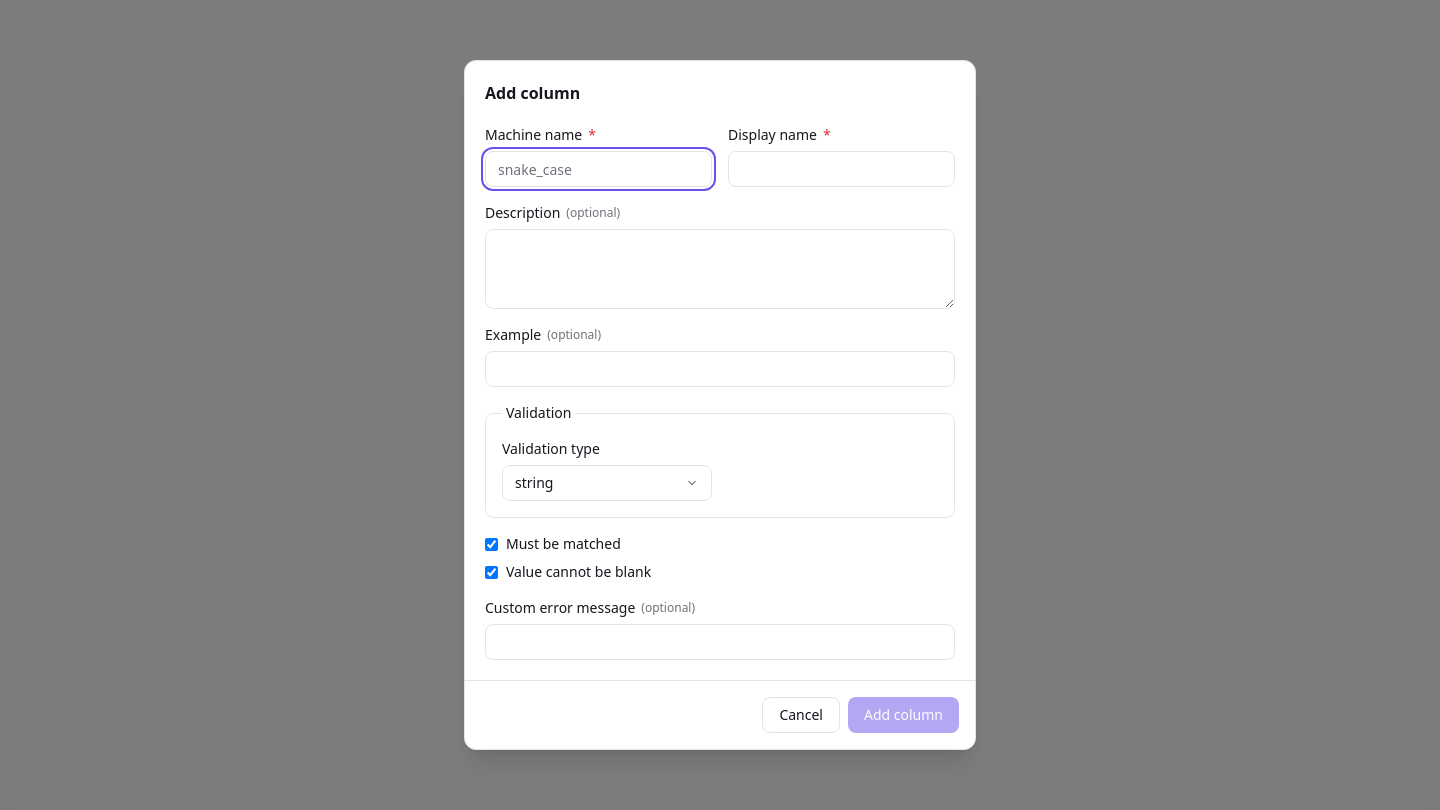
Test: ColumnEditor › disables the submit button until name and display name are valid
Expected: the button "Add column" is disabled, left=848, top=697, right=959, bottom=733
Step 1. Type "valid_name" into the field labelled "Machine name *" → (598, 169), box left=485, top=151, right=712, bottom=187
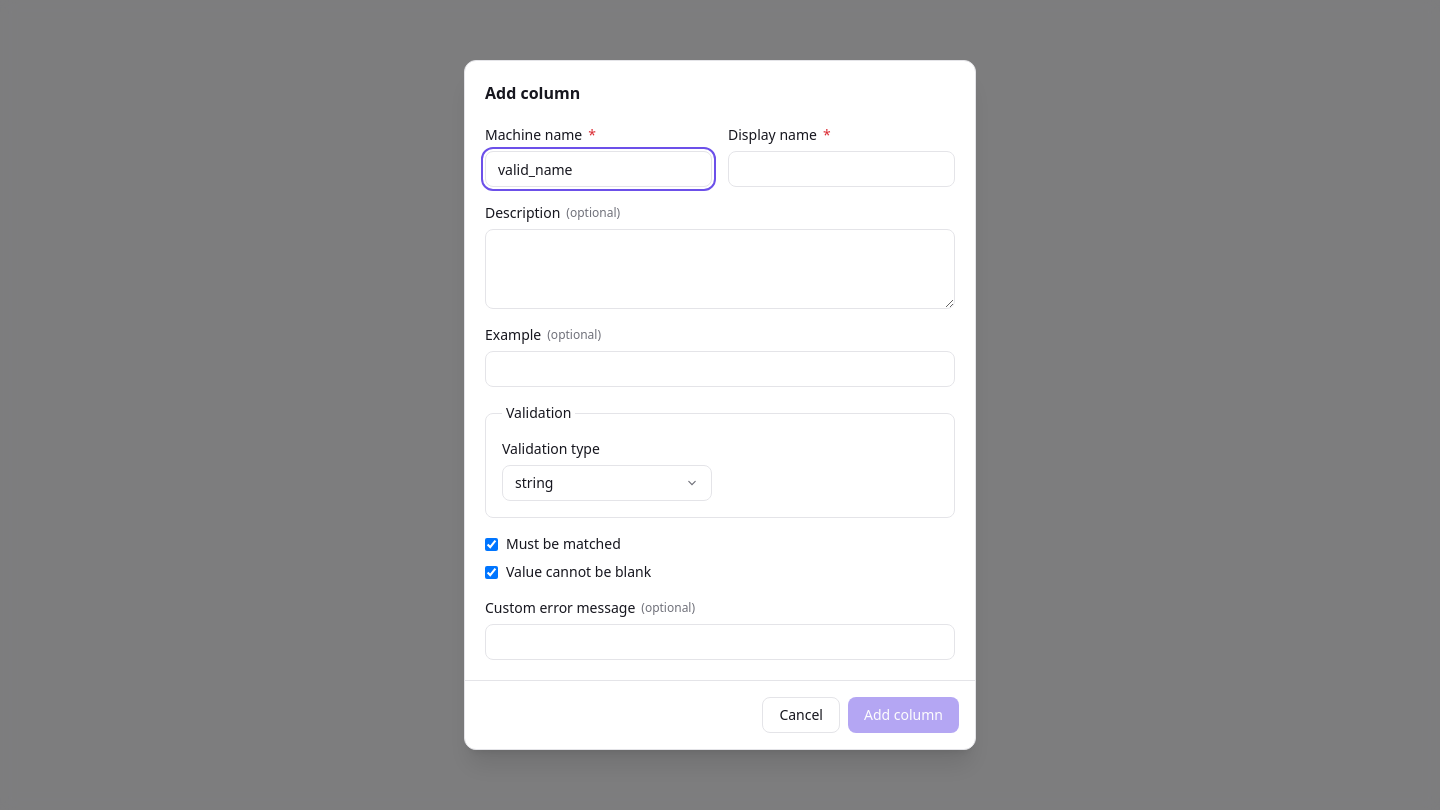
Expected: the button "Add column" is disabled, left=848, top=697, right=959, bottom=733
Step 2. Type "Valid display" into the field labelled "Display name *" → (842, 169), box left=728, top=151, right=955, bottom=187
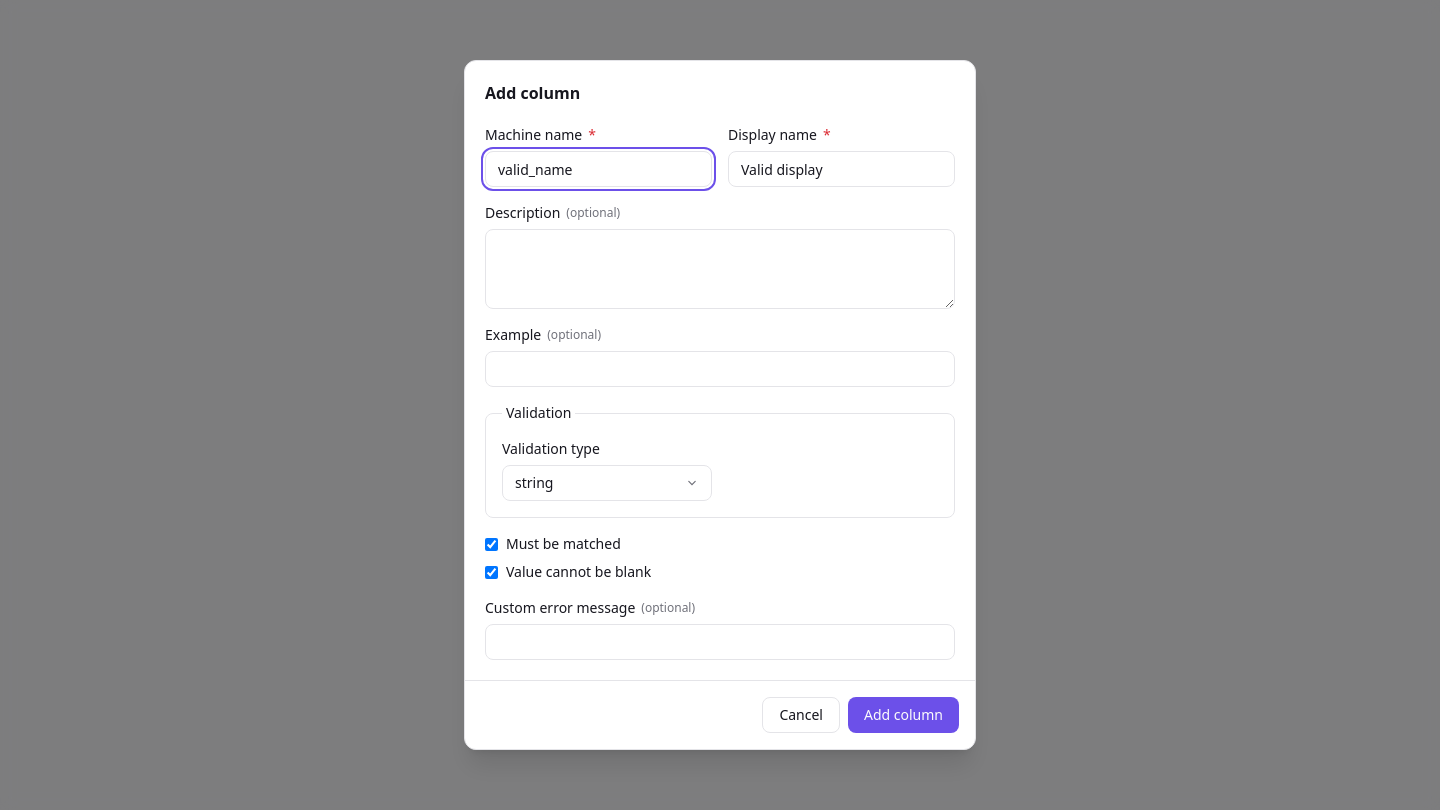
Expected: the button "Add column" is enabled, left=848, top=697, right=959, bottom=733
